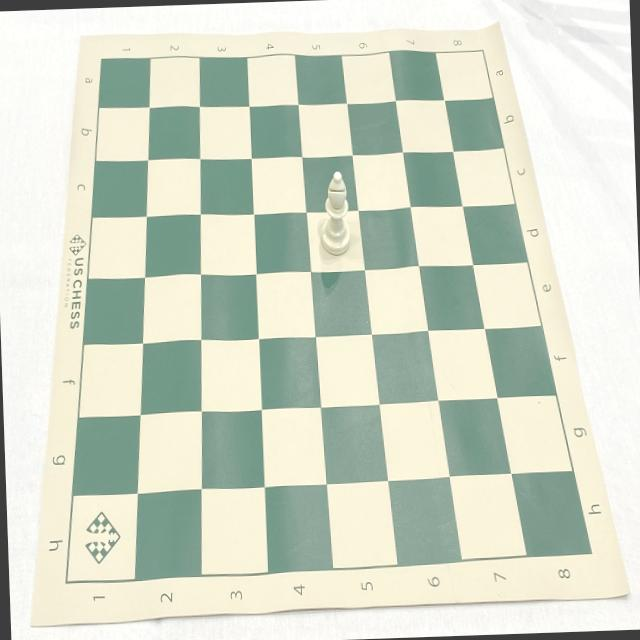white-bishop: (316, 168, 352, 258)
